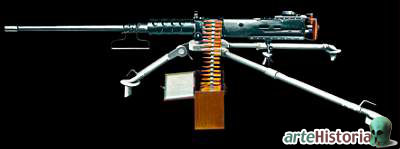rifle: (3, 18, 384, 121)
